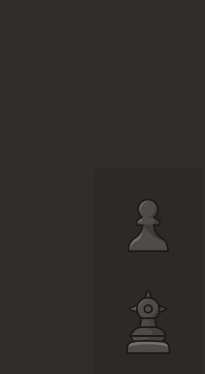F: (112, 277, 185, 366)
P: (120, 187, 176, 261)
